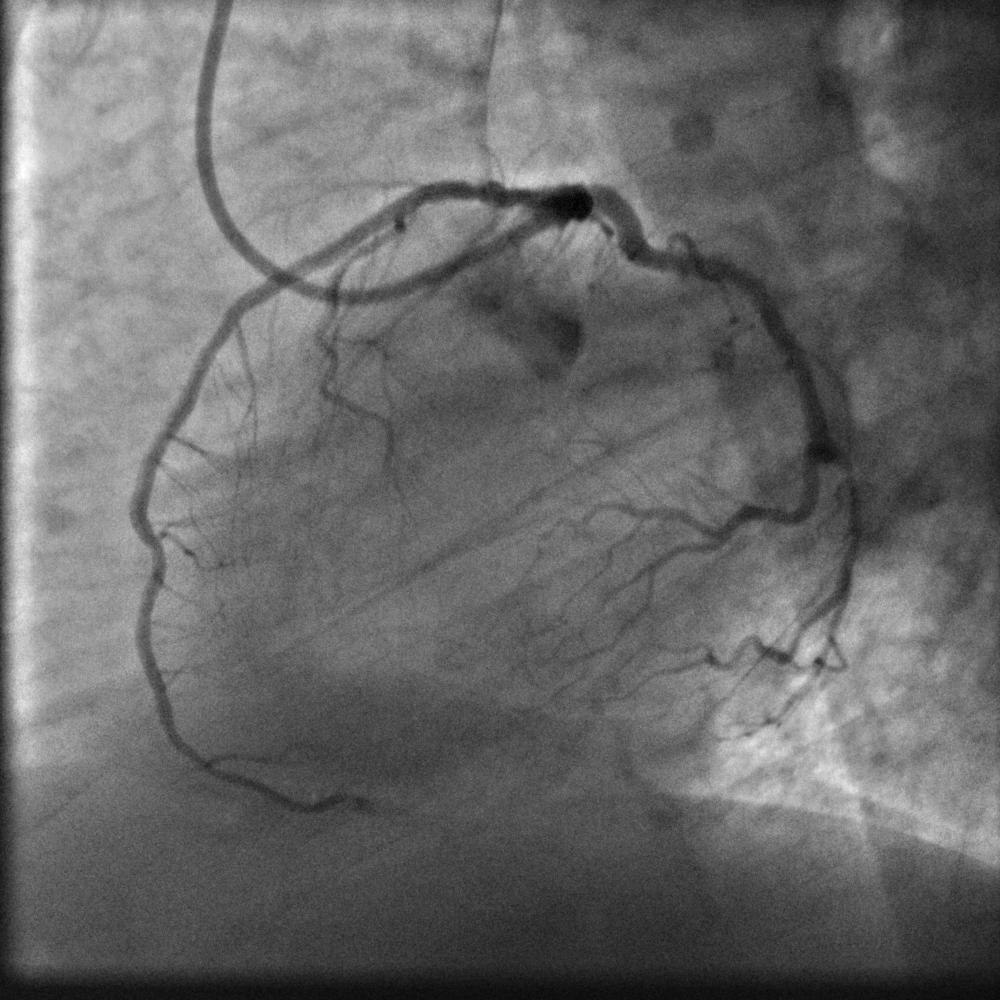Stenosis: (466, 175, 506, 205)
